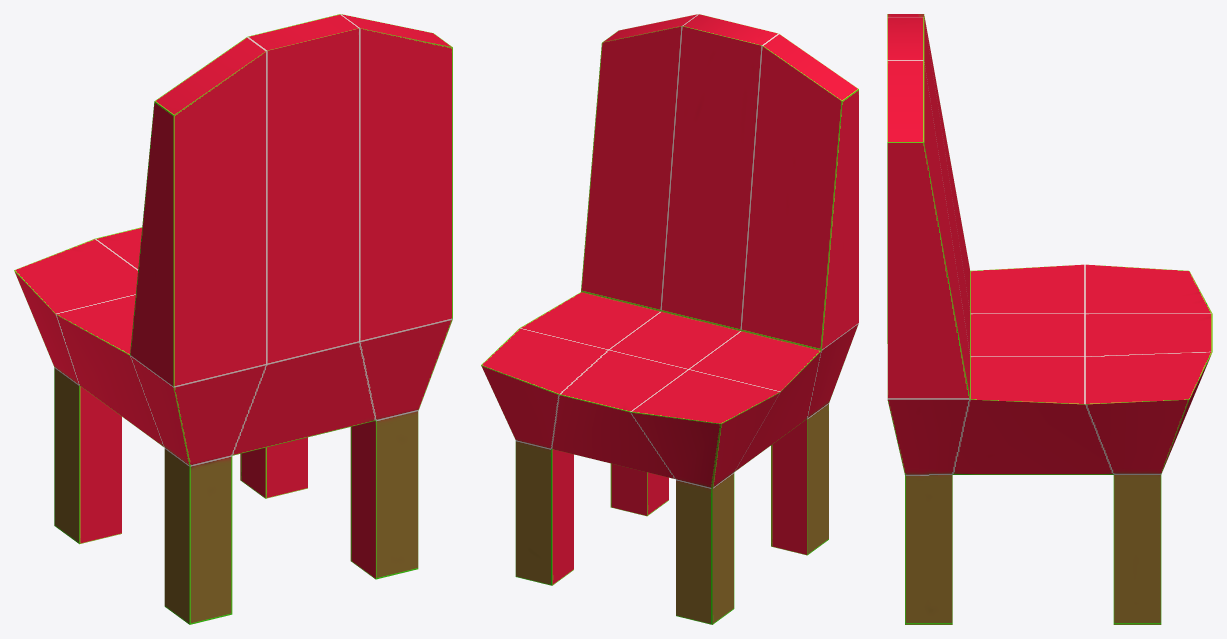
The model's file is chair.FBX.
The picture shows the model from 3 angles, left to right: view 1: azimuth 30°, elevation 25°; view 2: azimuth 150°, elevation 25°; view 3: azimuth 270°, elevation 25°; orthographic projection. The views are drawn at different scales.
Parts seen in each view (by area): view 1: Box001; view 2: Box001; view 3: Box001.
Boxes of the visible parts, <box> form: Box001: <box>14,14,452,624</box>; Box001: <box>481,14,858,624</box>; Box001: <box>887,14,1212,624</box>.
Bounding box in the file's own units: 60.9 × 108 × 59.8.
